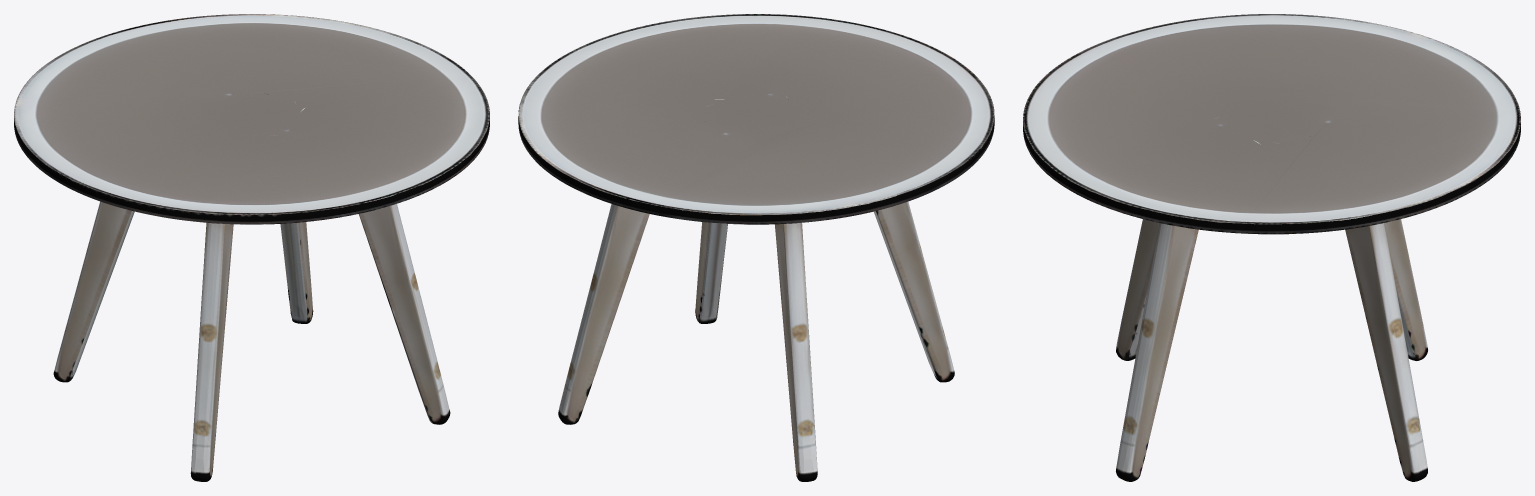
The model's file is edited_mesh.glb.
The picture shows the model from 3 angles, left to right: view 1: azimuth 30°, elevation 25°; view 2: azimuth 150°, elevation 25°; view 3: azimuth 270°, elevation 25°; orthographic projection. The views are drawn at different scales.
Parts seen in each view (by area): view 1: solid_001_wire; view 2: solid_001_wire; view 3: solid_001_wire.
Boxes of the visible parts, x1,y1,x2,y2 form: solid_001_wire: [14, 14, 489, 481]; solid_001_wire: [518, 14, 994, 481]; solid_001_wire: [1023, 14, 1520, 481].
Bounding box in the file's own units: 1.72 × 1.14 × 1.72.
1 material, 1 textured.
